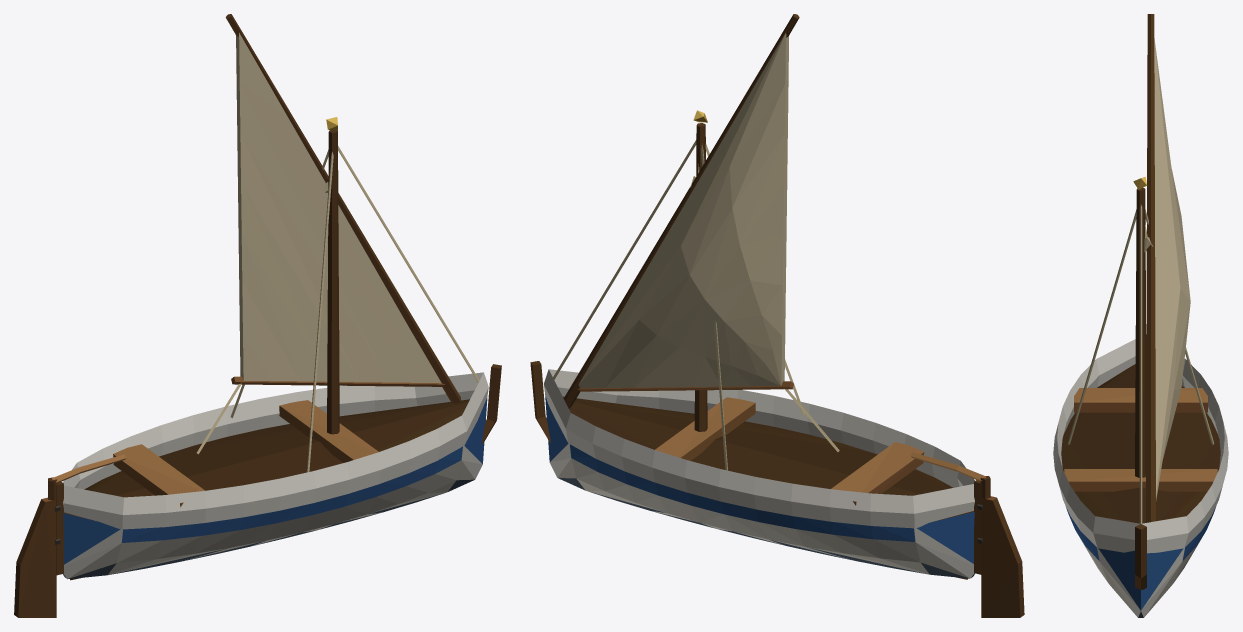
Rendered from mt_sailboat_bluewhite.glb.
The picture shows the model from 3 angles, left to right: view 1: azimuth 30°, elevation 25°; view 2: azimuth 150°, elevation 25°; view 3: azimuth 270°, elevation 25°; orthographic projection. The views are drawn at different scales.
Parts seen in each view (by area): view 1: base, sail_m, rudder_m; view 2: base, sail_m, rudder_m; view 3: base, sail_m.
Boxes of the visible parts, x1,y1,x2,y2 form: base: (56,117,501,580); sail_m: (196,14,460,454); rudder_m: (14,454,126,617); base: (530,110,981,579); sail_m: (563,14,839,451); rudder_m: (911,452,1024,617); base: (1053,176,1228,617); sail_m: (1144,14,1190,522).
Bounding box in the file's own units: 1.07 × 1.17 × 0.352.
